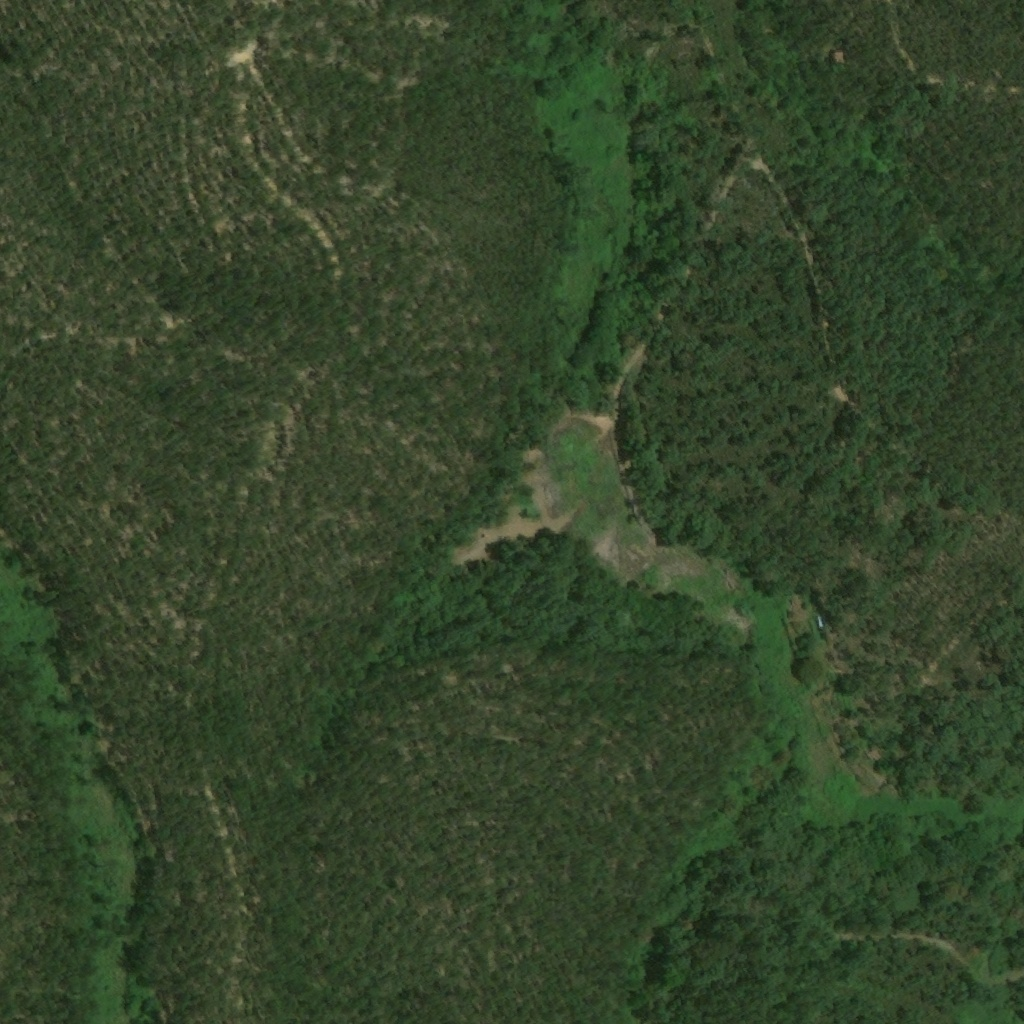0 no-damage: (817, 614, 832, 629)
